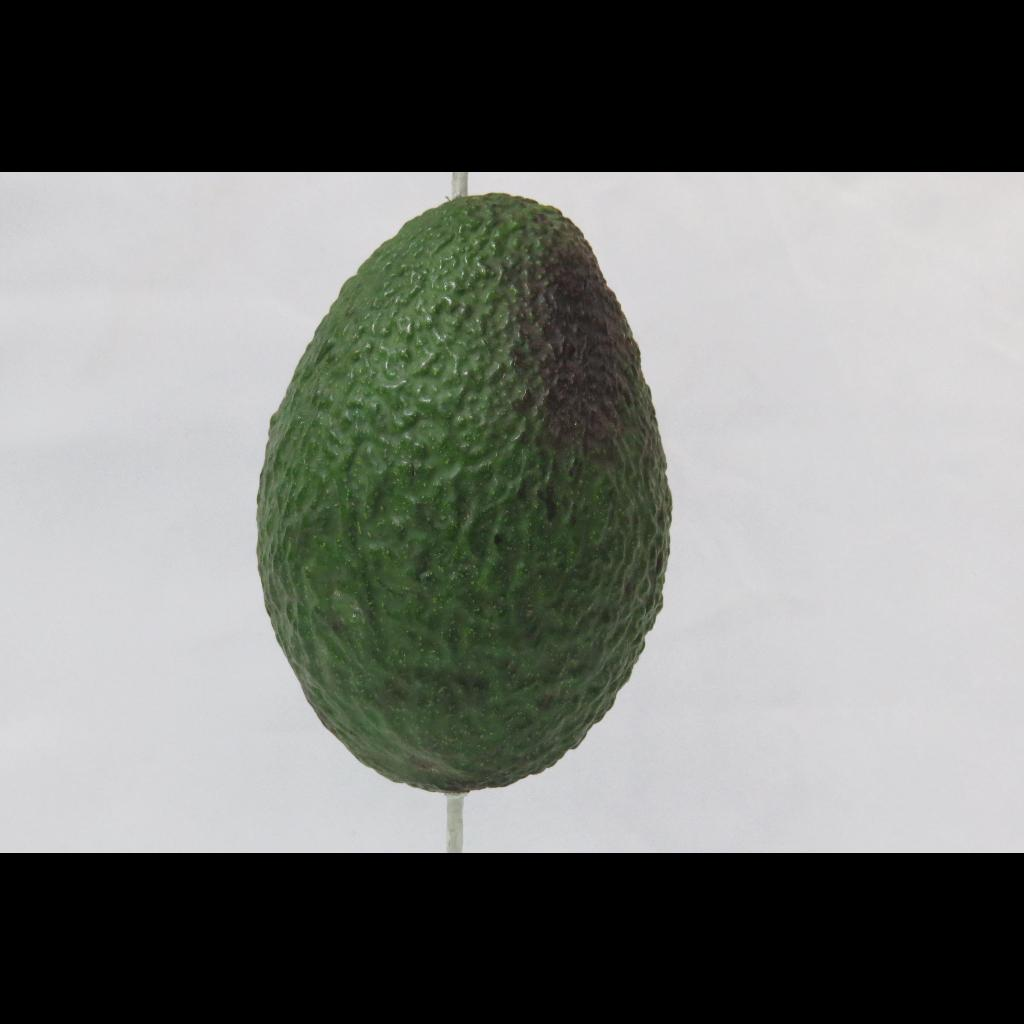Healthy: (225, 170, 703, 820)
